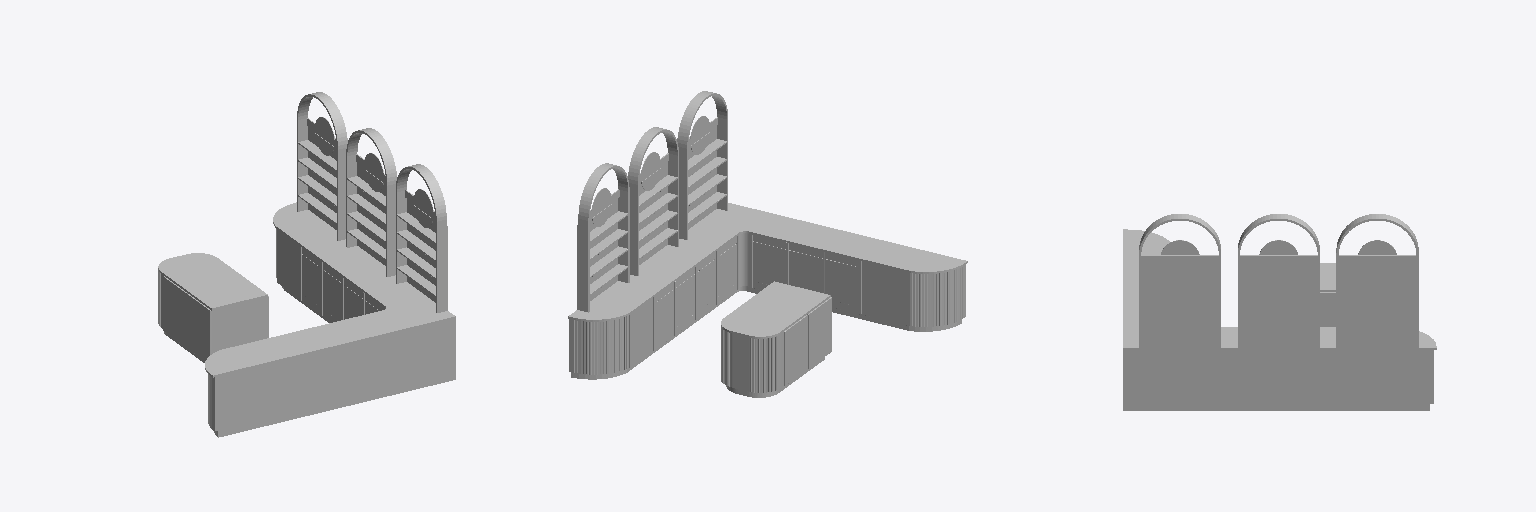
The model's file is barfixtures.obj.
The picture shows the model from 3 angles: view 1: azimuth 30°, elevation 25°; view 2: azimuth 150°, elevation 25°; view 3: azimuth 270°, elevation 25°; orthographic projection.
Visible parts, largest first — view 1: Barfixtures; view 2: Barfixtures; view 3: Barfixtures.
Boxes of the visible parts, <box> form: Barfixtures: <box>158,92,455,437</box>; Barfixtures: <box>568,91,967,397</box>; Barfixtures: <box>1123,214,1436,410</box>.
Size of the model in its own units: 361 by 273 by 403.